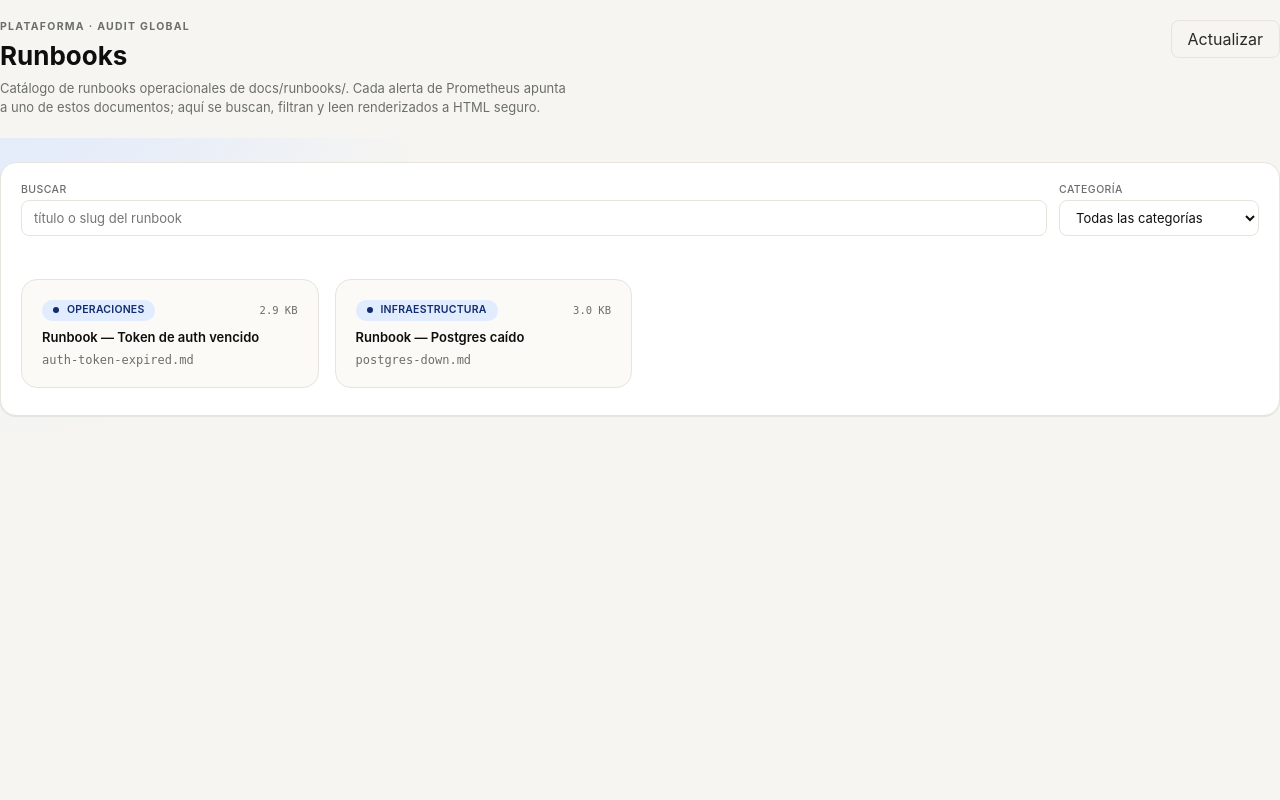
Scenario: Runbooks › opens the viewer with the server-rendered HTML on card click
Click the heading "Runbook — Token de auth vencido": (170, 337) [42, 329, 298, 345]
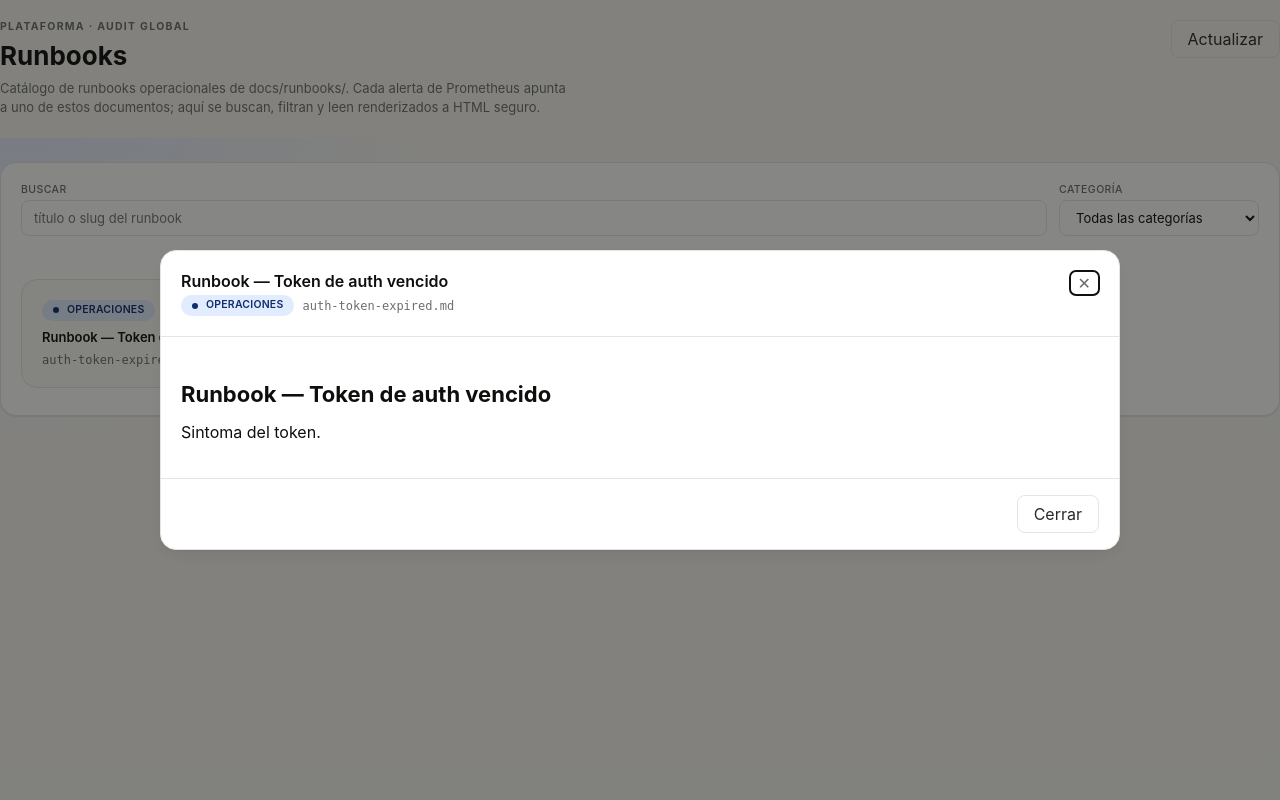
Now the dialog shows "Sintoma del token.", box [181, 422, 321, 442]
